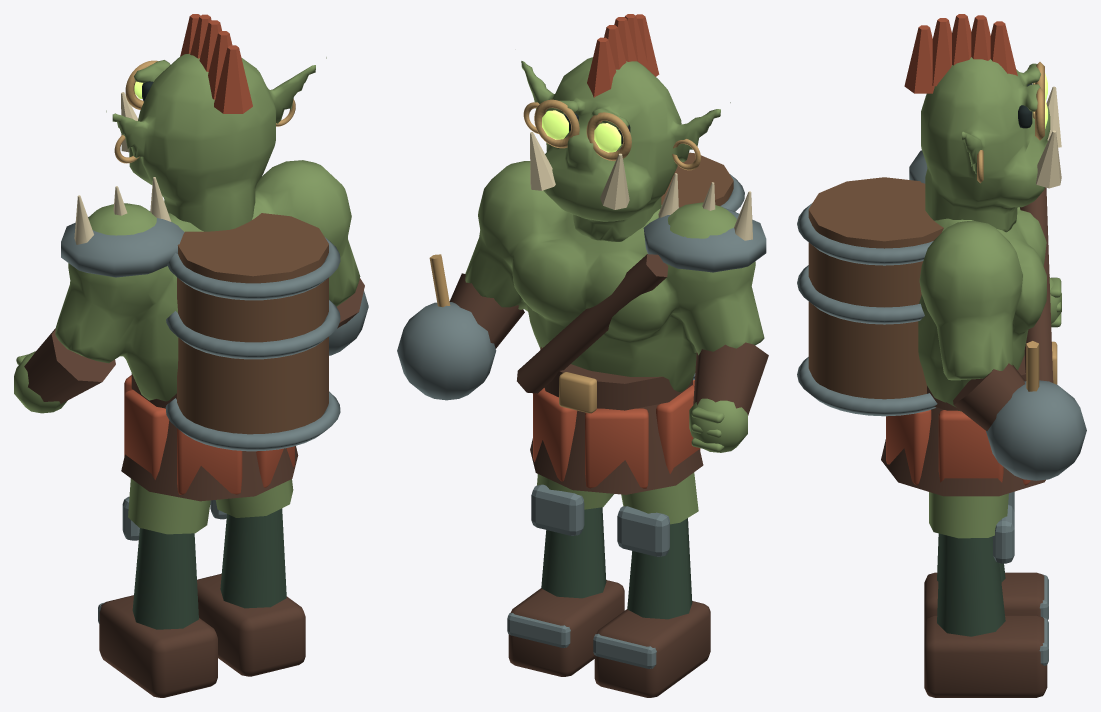
The model's file is host_04.glb.
3 renders of one model, left to right at view 1: azimuth 30°, elevation 25°; view 2: azimuth 150°, elevation 25°; view 3: azimuth 270°, elevation 25°, orthographic. The views are drawn at different scales.
Visible parts, largest first — view 1: mesh_Skin.002, mesh_Wood.003, mesh_Iron.002, mesh_Cloth.003, mesh_Leather.002, mesh_Leather.003, mesh_Leather.001, mesh_Shadow.003, mesh_Shadow.001, mesh_Skin.003, mesh_Bone.003, mesh_Skin.001 (+1 smaller); view 2: mesh_Skin.002, mesh_Leather.002, mesh_Cloth.003, mesh_Iron.002, mesh_Leather.003, mesh_Leather.001, mesh_Copper.003, mesh_Shadow.003, mesh_Shadow.001, mesh_Iron.001, mesh_Iron.003, mesh_Bone.003 (+4 smaller); view 3: mesh_Skin.002, mesh_Wood.003, mesh_Iron.002, mesh_Cloth.003, mesh_Leather.001, mesh_Leather.002, mesh_Shadow.001, mesh_Skin.001, mesh_Leather.003, mesh_Copper.003, mesh_Bone.003, mesh_Iron.001.
Part boxes in pixels (bbox=[...]): mesh_Skin.002: bbox=[14, 53, 360, 413]; mesh_Wood.003: bbox=[177, 213, 328, 434]; mesh_Iron.002: bbox=[61, 211, 368, 451]; mesh_Cloth.003: bbox=[124, 14, 294, 494]; mesh_Leather.002: bbox=[24, 278, 364, 501]; mesh_Leather.003: bbox=[99, 595, 217, 697]; mesh_Leather.001: bbox=[197, 573, 305, 676]; mesh_Shadow.003: bbox=[132, 528, 198, 629]; mesh_Shadow.001: bbox=[220, 508, 286, 608]; mesh_Skin.003: bbox=[128, 478, 210, 534]; mesh_Bone.003: bbox=[74, 92, 171, 244]; mesh_Skin.001: bbox=[215, 479, 293, 517]; mesh_Skin.002: bbox=[465, 57, 764, 452]; mesh_Leather.002: bbox=[449, 254, 768, 494]; mesh_Cloth.003: bbox=[533, 14, 700, 488]; mesh_Iron.002: bbox=[397, 174, 766, 400]; mesh_Leather.003: bbox=[594, 601, 710, 697]; mesh_Leather.001: bbox=[508, 580, 624, 676]; mesh_Copper.003: bbox=[429, 99, 700, 413]; mesh_Shadow.003: bbox=[627, 518, 692, 619]; mesh_Shadow.001: bbox=[541, 507, 606, 598]; mesh_Iron.001: bbox=[507, 484, 584, 647]; mesh_Iron.003: bbox=[593, 506, 669, 668]; mesh_Bone.003: bbox=[530, 132, 752, 240]; mesh_Skin.002: bbox=[918, 57, 1061, 411]; mesh_Wood.003: bbox=[808, 177, 943, 399]; mesh_Iron.002: bbox=[797, 150, 1086, 480]; mesh_Cloth.003: bbox=[886, 14, 1030, 485]; mesh_Leather.001: bbox=[924, 615, 1047, 697]; mesh_Leather.002: bbox=[881, 187, 1053, 496]; mesh_Shadow.001: bbox=[937, 534, 1005, 636]; mesh_Skin.001: bbox=[929, 492, 1008, 538]; mesh_Leather.003: bbox=[924, 572, 1044, 624]; mesh_Copper.003: bbox=[977, 62, 1057, 391]; mesh_Bone.003: bbox=[1036, 86, 1061, 188]; mesh_Iron.001: bbox=[993, 504, 1048, 665].
Bounding box in the file's own units: 1.1 × 1.98 × 0.8022.
